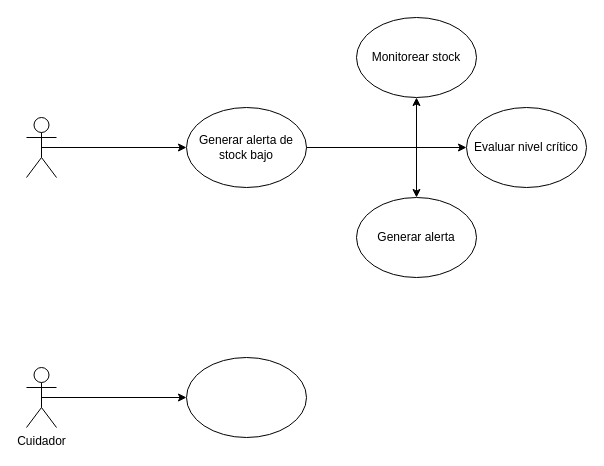
Some shapes in this 604 by 466 pixel diagram are drawn without their labels. Here are the shapes that lost their labels. From the top down, the box of each, then its label:
(26, 116, 56, 178): Sistema
(186, 356, 306, 438): Recibir notificación
